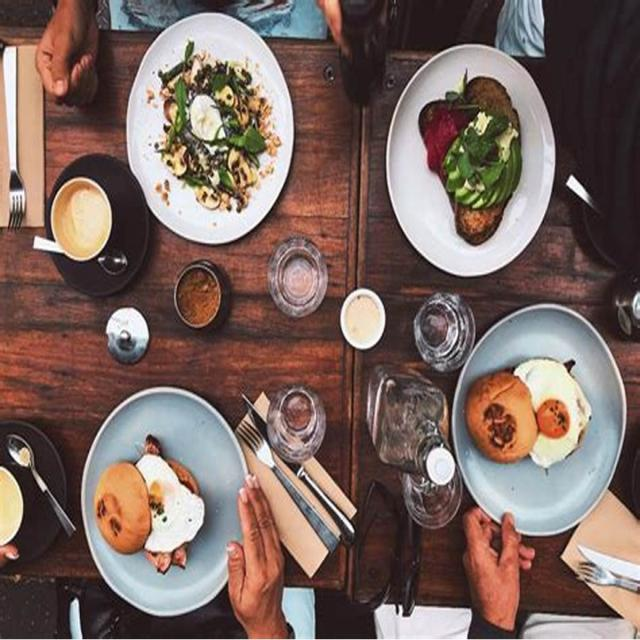banh mi nuong: (418, 61, 531, 246)
hamburger: (91, 398, 221, 582), (464, 344, 588, 494)
salad: (148, 56, 266, 220)
